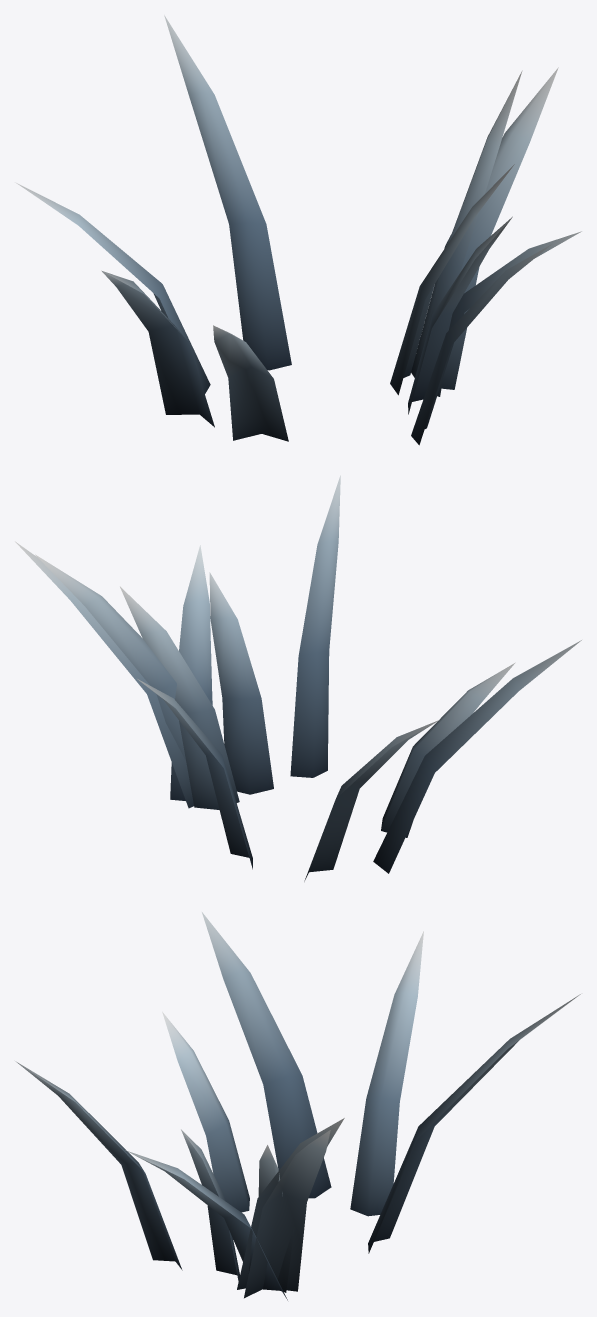
File: grass_frozen_a.glb
3 renders of one model, top to bottom at view 1: azimuth 30°, elevation 25°; view 2: azimuth 150°, elevation 25°; view 3: azimuth 270°, elevation 25°, orthographic. The views are drawn at different scales.
Parts seen in each view (by area): view 1: grass_frozen_a; view 2: grass_frozen_a; view 3: grass_frozen_a.
Part boxes in pixels (box(x1,y1,x2,y2)): grass_frozen_a: box(15, 15, 581, 445); grass_frozen_a: box(15, 475, 581, 881); grass_frozen_a: box(15, 912, 580, 1300).
Size of the model in its own units: 0.7425 by 0.365 by 0.7377.
